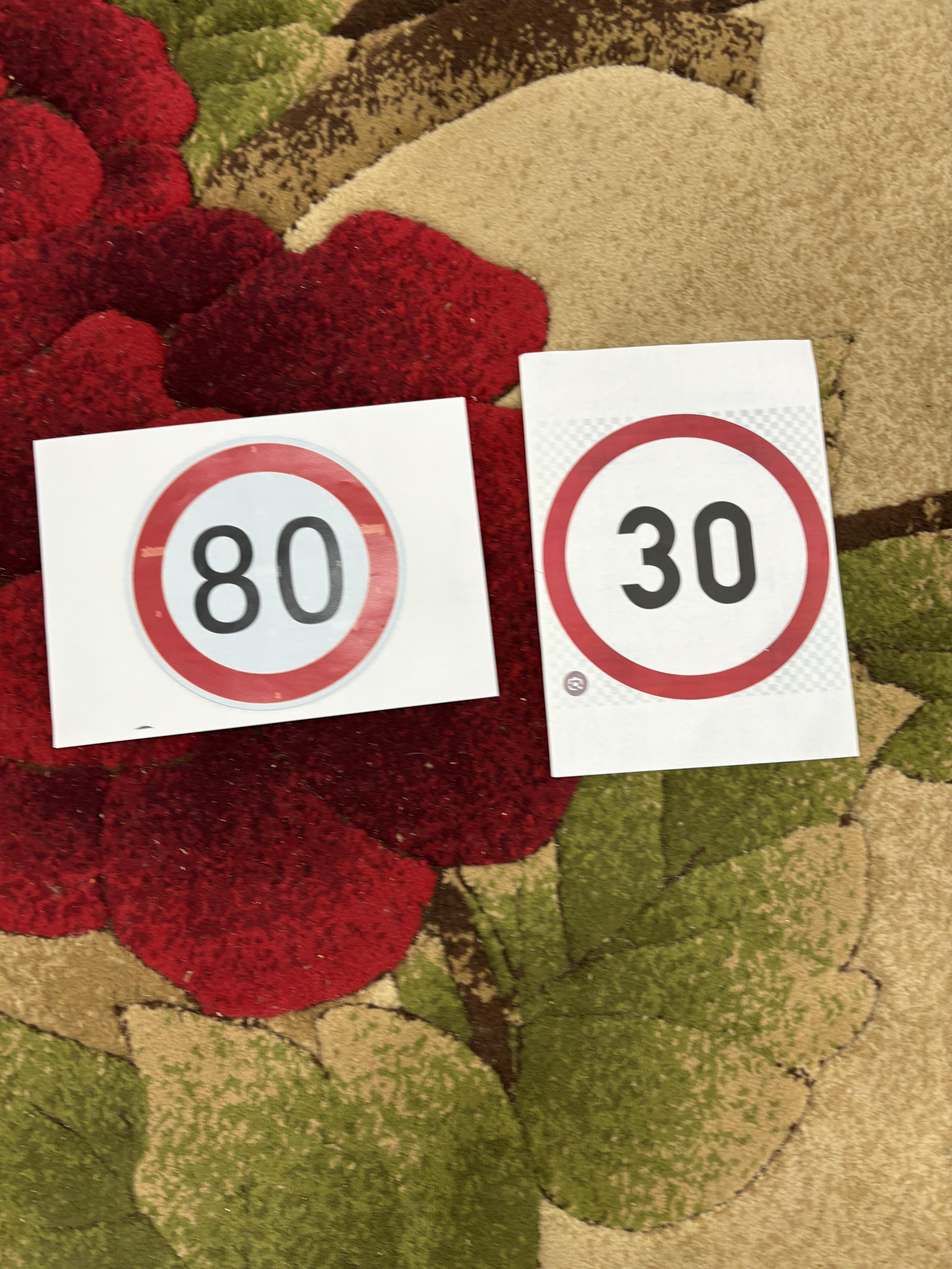30-speed: (541, 403, 832, 710)
80-Speed: (131, 434, 412, 709)
